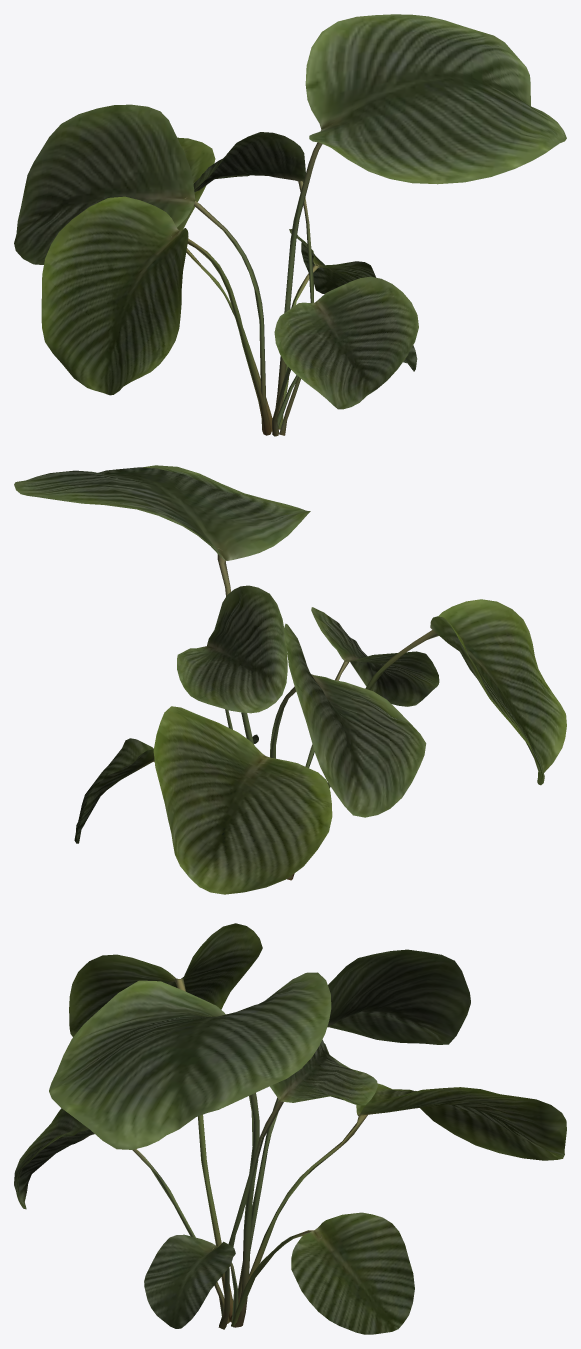
Rendered from ph-calathea-orbifolia-01.lod1.glb.
3 renders of one model, top to bottom at view 1: azimuth 30°, elevation 25°; view 2: azimuth 150°, elevation 25°; view 3: azimuth 270°, elevation 25°, orthographic. The views are drawn at different scales.
Parts seen in each view (by area): view 1: calathea_orbifolia_01_a; view 2: calathea_orbifolia_01_a; view 3: calathea_orbifolia_01_a.
Boxes of the visible parts, bbox=[...] form: calathea_orbifolia_01_a: bbox=[14, 14, 566, 436]; calathea_orbifolia_01_a: bbox=[14, 465, 566, 894]; calathea_orbifolia_01_a: bbox=[14, 923, 566, 1334].
Bounding box in the file's own units: 0.6006 × 0.4243 × 0.5257.
Materials: 1 (1 with a texture image).
